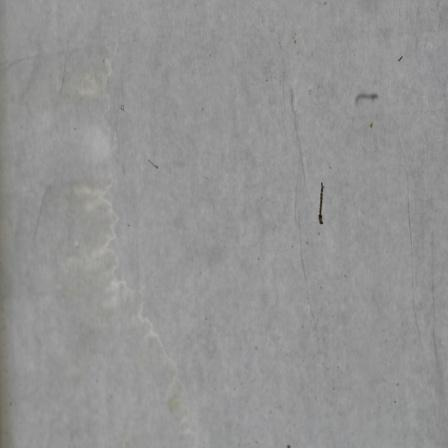Jentik-Nyamuk: (313, 178, 329, 227), (144, 155, 163, 172)
